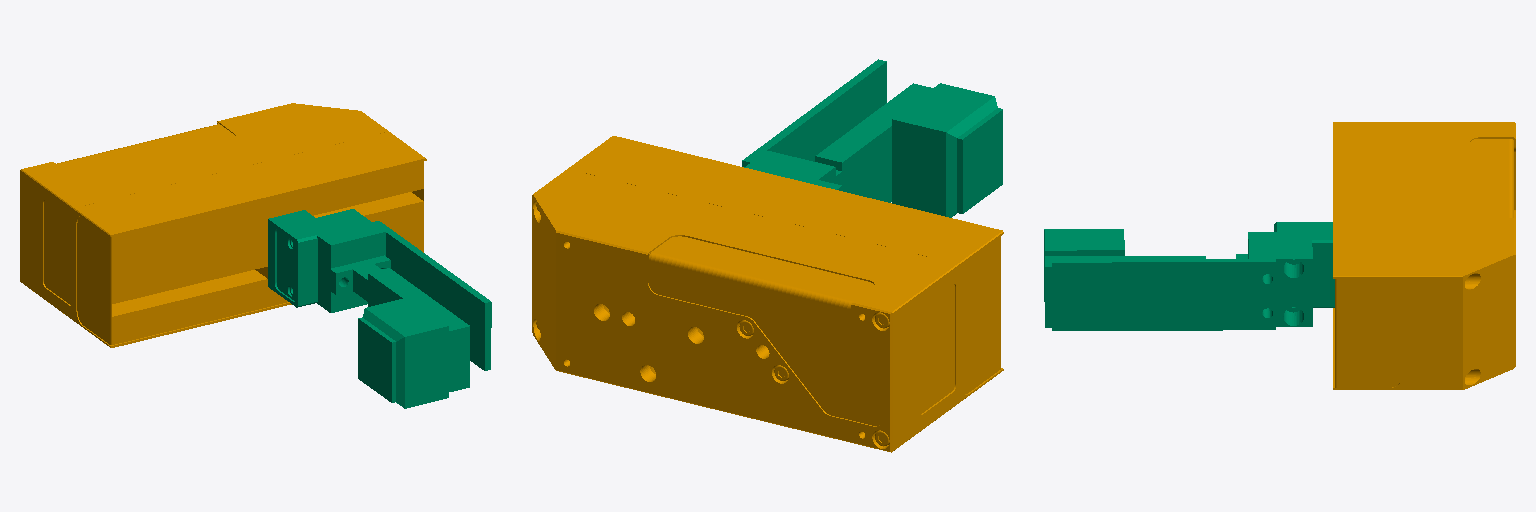
robot.urdf — wsg_50:
<?xml version="1.0" ?>
<!-- =================================================================================== -->
<!-- |    This document was autogenerated by xacro from wsg_50.urdf.xacro              | -->
<!-- |    EDITING THIS FILE BY HAND IS NOT RECOMMENDED                                 | -->
<!-- =================================================================================== -->
<robot name="wsg_50" xmlns:xacro="http://www.ros.org/wiki/xacro">
  <!-- MATERIALS -->
  <material name="Blue">
    <color rgba="0 0 1 1"/>
  </material>
  <material name="Red">
    <color rgba="1 0 0 1"/>
  </material>
  <material name="Green">
    <color rgba="0 1 0 1"/>
  </material>
  <material name="Yellow">
    <color rgba="1 1 0 1"/>
  </material>
  <material name="LightGrey">
    <color rgba="0.6 0.6 0.6 1.0"/>
  </material>
  <!-- END OF MATERIALS -->
  <!-- XACRO MACROS FOR VISUALS AND COLLISIONS -->
  <!-- END OF XACRO MACROS -->
  <link name="palm">
    <inertial>
      <origin rpy="0 0 0" xyz="0 0 0"/>
      <mass value="1"/>
      <inertia ixx="0.01" ixy="0" ixz="0" iyy="0.01" iyz="0" izz="0.01"/>
    </inertial>
    <visual>
      <geometry>
        <mesh filename="package://schunk_description/meshes/wsg_50/palm.stl"/>
      </geometry>
    </visual>
    <!-- The gripper itself -->
    <collision>
      <geometry>
        <box size="0.1453 0.0725 0.049"/>
      </geometry>
      <origin rpy="0 0 0" xyz="0.0 -0.0351 0.0"/>
    </collision>
    <!-- the larger mounting plate -->
    <collision>
      <geometry>
        <box size="0.05 0.0064 0.095"/>
      </geometry>
      <origin rpy="0 0 0" xyz="0.0 0.007 0"/>
    </collision>
  </link>
  <joint name="wsg_50_finger_left_joint" type="prismatic">
    <origin rpy="0 1.57 0" xyz="0 -0.0719 0"/>
    <parent link="palm"/>
    <child link="wsg_50_finger_left_link"/>
    <axis xyz="0 0 -1"/>
    <!--<limit effort="10" lower="-0.001" upper="0.109" velocity="1.0"/>-->
  </joint>
  <link name="wsg_50_finger_left_link">
    <inertial>
      <origin rpy="0 0 0" xyz="0 0 0"/>
      <mass value="1"/>
      <inertia ixx="0.01" ixy="0" ixz="0" iyy="0.01" iyz="0" izz="0.01"/>
    </inertial>
    <!-- <xacro:left_finger_simple_visual/> -->
    <visual>
      <geometry>
        <mesh filename="package://schunk_description/meshes/wsg_50/finger_without_gelsight.stl"/>
      </geometry>
    </visual>
    <collision>
      <geometry>
        <box size="0.0365 0.117 0.0122"/>
      </geometry>
      <origin rpy="0 0 0" xyz="0.003 -0.0585 -0.0056"/>
    </collision>
  </link>
  <joint name="wsg_50_finger_right_joint" type="prismatic">
    <origin rpy="3.1415 -1.57 0" xyz="0 -0.0719 0.0"/>
    <parent link="palm"/>
    <child link="wsg_50_finger_right_link"/>
    <axis xyz="0 0 1"/>
    <!--<limit effort="10" lower="-0.001" upper="0.109" velocity="1.0"/> -->
  </joint>
  <link name="wsg_50_finger_right_link">
    <inertial>
      <origin rpy="0 0 0" xyz="0 0 0"/>
      <mass value="1"/>
      <inertia ixx="0.01" ixy="0" ixz="0" iyy="0.01" iyz="0" izz="0.01"/>
    </inertial>
    <!-- <xacro:right_finger_simple_visual/> -->
    <visual>
      <geometry>
        <mesh filename="package://schunk_description/meshes/wsg_50/finger_with_gelsight.stl"/>
      </geometry>
    </visual>
    <!-- Finger adapter and aluminum adapter block -->
    <collision>
      <geometry>
        <box size="0.03 0.0344 0.0344"/>
      </geometry>
      <origin rpy="0 0 0" xyz="0.0 0.0172 0.0172"/>
    </collision>
    <!-- Stick to gelsight box and backplate / optotrak marker mount -->
    <collision>
      <geometry>
        <box size="0.036 0.0883 0.0207"/>
      </geometry>
      <origin rpy="0 0 0" xyz="0.0 0.075 0.025"/>
    </collision>
    <!-- Gelsight box -->
    <collision>
      <geometry>
        <box size="0.0318 0.0318 0.037"/>
      </geometry>
      <origin rpy="0 0 0" xyz="-0.0055 0.1005 0.01231"/>
    </collision>
  </link>
  <!-- extensions -->
  <transmission name="wsg_50_finger_left_trans">
    <type>transmission_interface/SimpleTransmission</type>
    <joint name="wsg_50_finger_left_joint"/>
    <actuator name="wsg_50_finger_left_motor">
      <hardwareInterface>EffortJointInterface</hardwareInterface>
      <mechanicalReduction>1</mechanicalReduction>
    </actuator>
  </transmission>
  <transmission name="wsg_50_finger_right_trans">
    <type>transmission_interface/SimpleTransmission</type>
    <joint name="wsg_50_finger_right_joint"/>
    <actuator name="wsg_50_finger_right_motor">
      <hardwareInterface>EffortJointInterface</hardwareInterface>
      <mechanicalReduction>1</mechanicalReduction>
    </actuator>
  </transmission>
</robot>

--- Facts derived from the render (not from the file) ---
Views: 3 orthographic renders of the robot side by side, from view 1: azimuth 30°, elevation 25°; view 2: azimuth 150°, elevation 25°; view 3: azimuth 270°, elevation 25°.
Model wsg_50 with 3 links and 2 joints (2 prismatic), rooted at palm, posed every joint at zero.
Visible links, largest first — view 1: palm, wsg_50_finger_right_link; view 2: palm, wsg_50_finger_right_link; view 3: palm, wsg_50_finger_right_link.
Link boxes in pixels (box(x1,y1,x2,y2)): palm: box(20, 103, 426, 347); wsg_50_finger_right_link: box(268, 209, 491, 408); palm: box(532, 136, 1003, 452); wsg_50_finger_right_link: box(742, 59, 1002, 217); palm: box(1333, 122, 1515, 389); wsg_50_finger_right_link: box(1044, 222, 1334, 330).
Bounding box of the posed robot: 0.146 × 0.1873 × 0.05 m (x, y, z).
2 mesh visuals loaded from 3 distinct referenced files (2 binary STL); not drawn: 1 (reference not matched to a file when rendering).